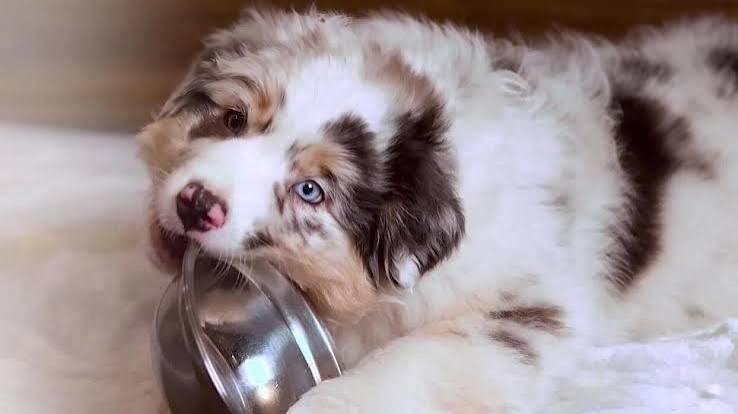puppy-dog: (124, 5, 737, 413)
